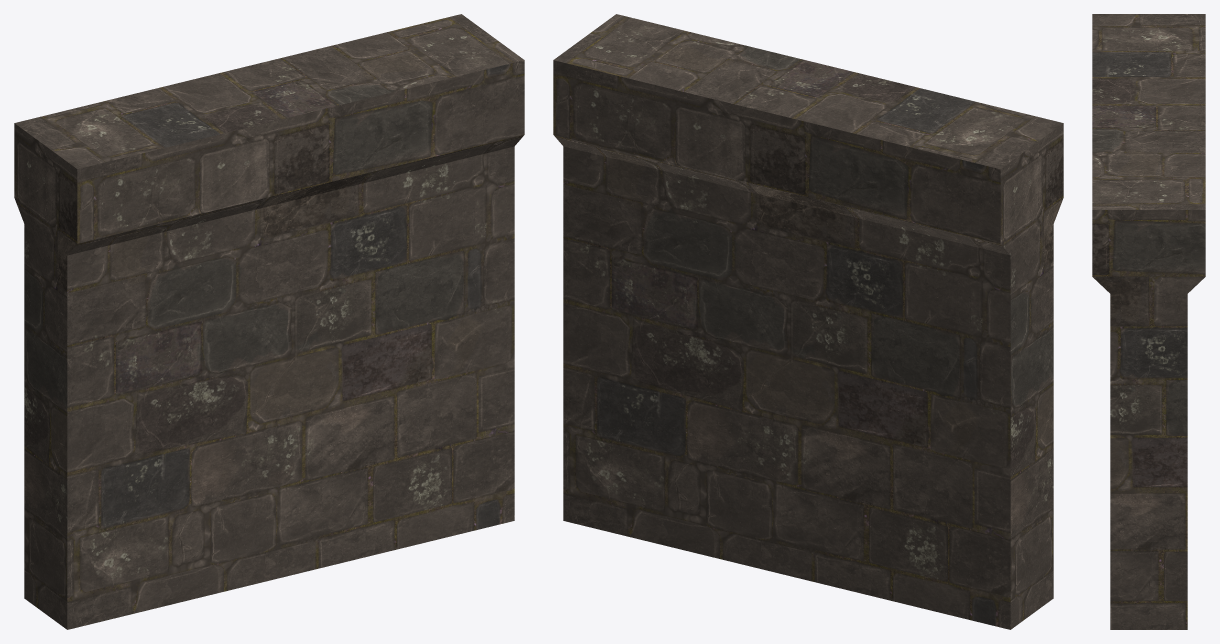
The model's file is SM_Wall.fbx.
The picture shows the model from 3 angles, left to right: view 1: azimuth 30°, elevation 25°; view 2: azimuth 150°, elevation 25°; view 3: azimuth 270°, elevation 25°; orthographic projection. The views are drawn at different scales.
Visible parts, largest first — view 1: Wall; view 2: Wall; view 3: Wall.
Boxes of the visible parts, box(x1,y1,x2,y2) form: Wall: box(14, 14, 524, 629); Wall: box(553, 14, 1063, 629); Wall: box(1092, 14, 1205, 629).
Size of the model in its own units: 300 by 300 by 73.26.
1 material, 1 textured.
